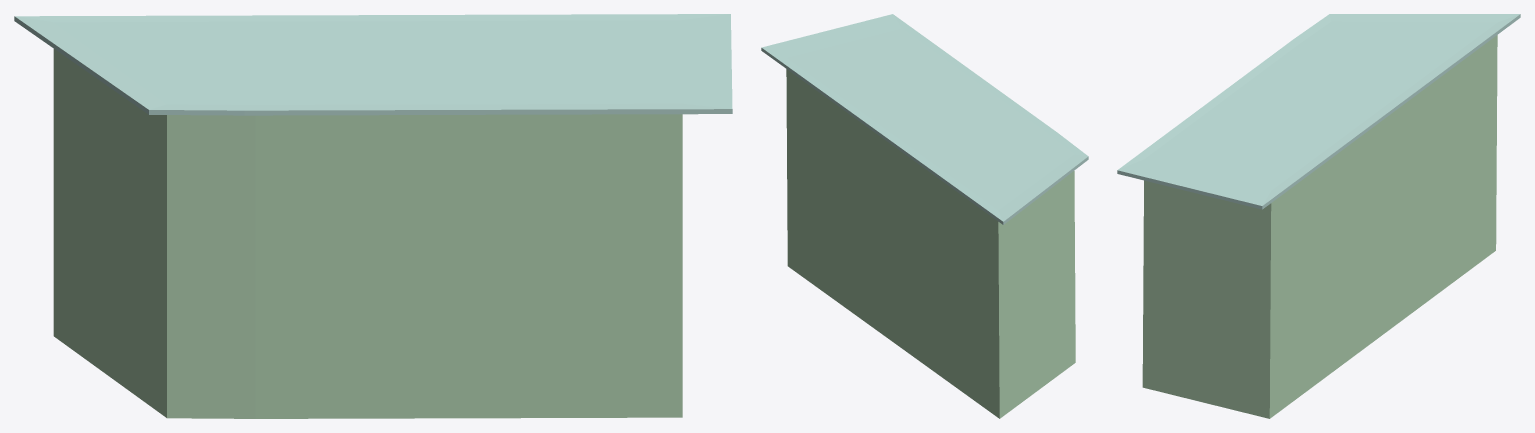
File: trab edu balcao.fbx
The picture shows the model from 3 angles, left to right: view 1: azimuth 30°, elevation 25°; view 2: azimuth 150°, elevation 25°; view 3: azimuth 270°, elevation 25°; orthographic projection. The views are drawn at different scales.
Parts seen in each view (by area): view 1: Cubo; view 2: Cubo; view 3: Cubo.
Boxes of the visible parts, <box> form: Cubo: <box>14,14,732,418</box>; Cubo: <box>761,14,1088,418</box>; Cubo: <box>1117,14,1520,418</box>.
Size of the model in its own units: 622 by 347 by 552.
